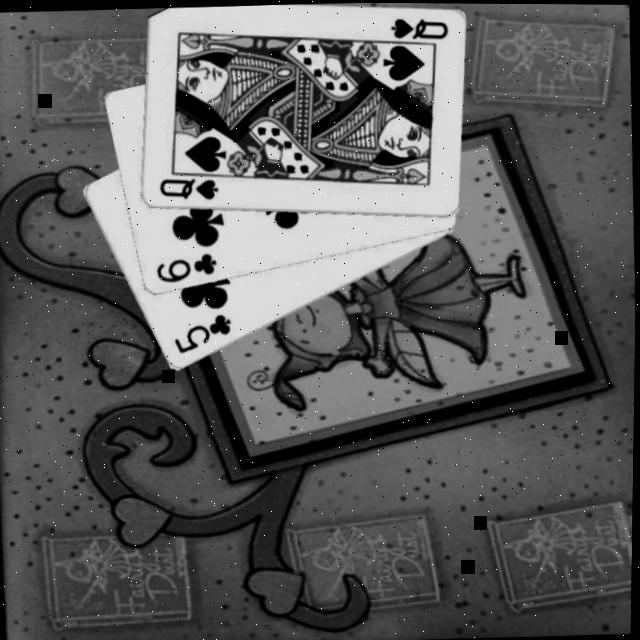5C: (169, 310, 236, 357)
6C: (152, 250, 219, 286)
QS: (155, 175, 220, 205), (385, 13, 450, 43)
